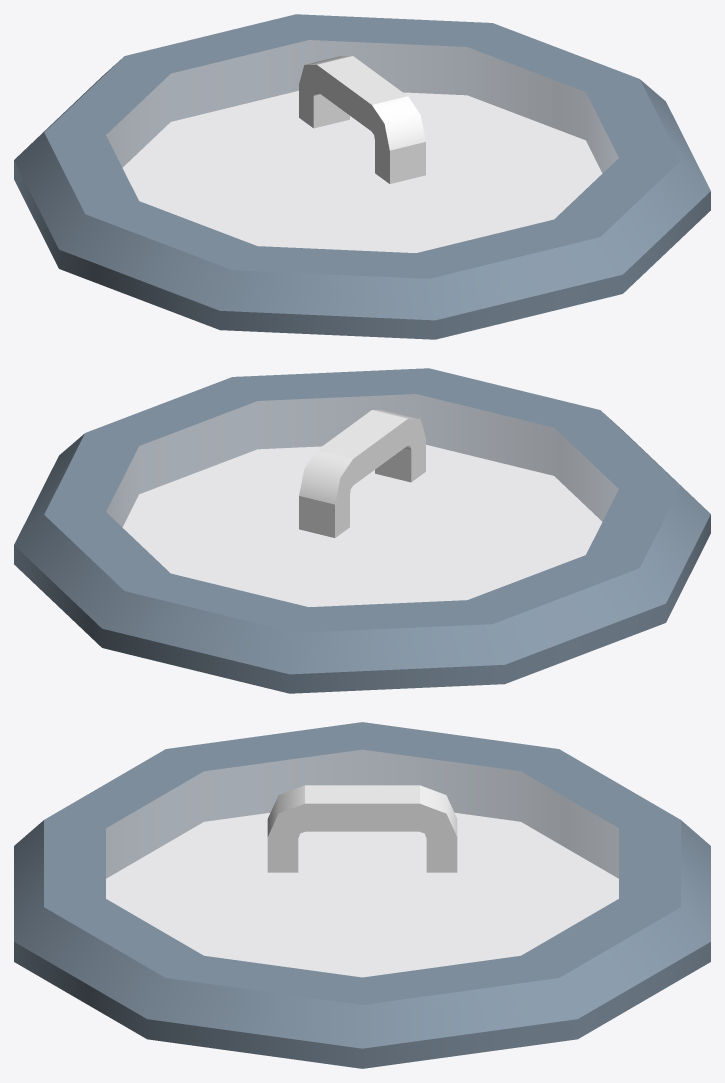
Rendered from potStewLid.GLB.
The picture shows the model from 3 angles, top to bottom: view 1: azimuth 30°, elevation 25°; view 2: azimuth 150°, elevation 25°; view 3: azimuth 270°, elevation 25°; orthographic projection. The views are drawn at different scales.
Visible parts, largest first — view 1: potStewLid; view 2: potStewLid; view 3: potStewLid.
Boxes of the visible parts, <box> form: potStewLid: <box>14,14,710,339</box>; potStewLid: <box>14,368,710,693</box>; potStewLid: <box>14,722,710,1068</box>.
Size of the model in its own units: 0.6574 by 0.1184 by 0.6253.
